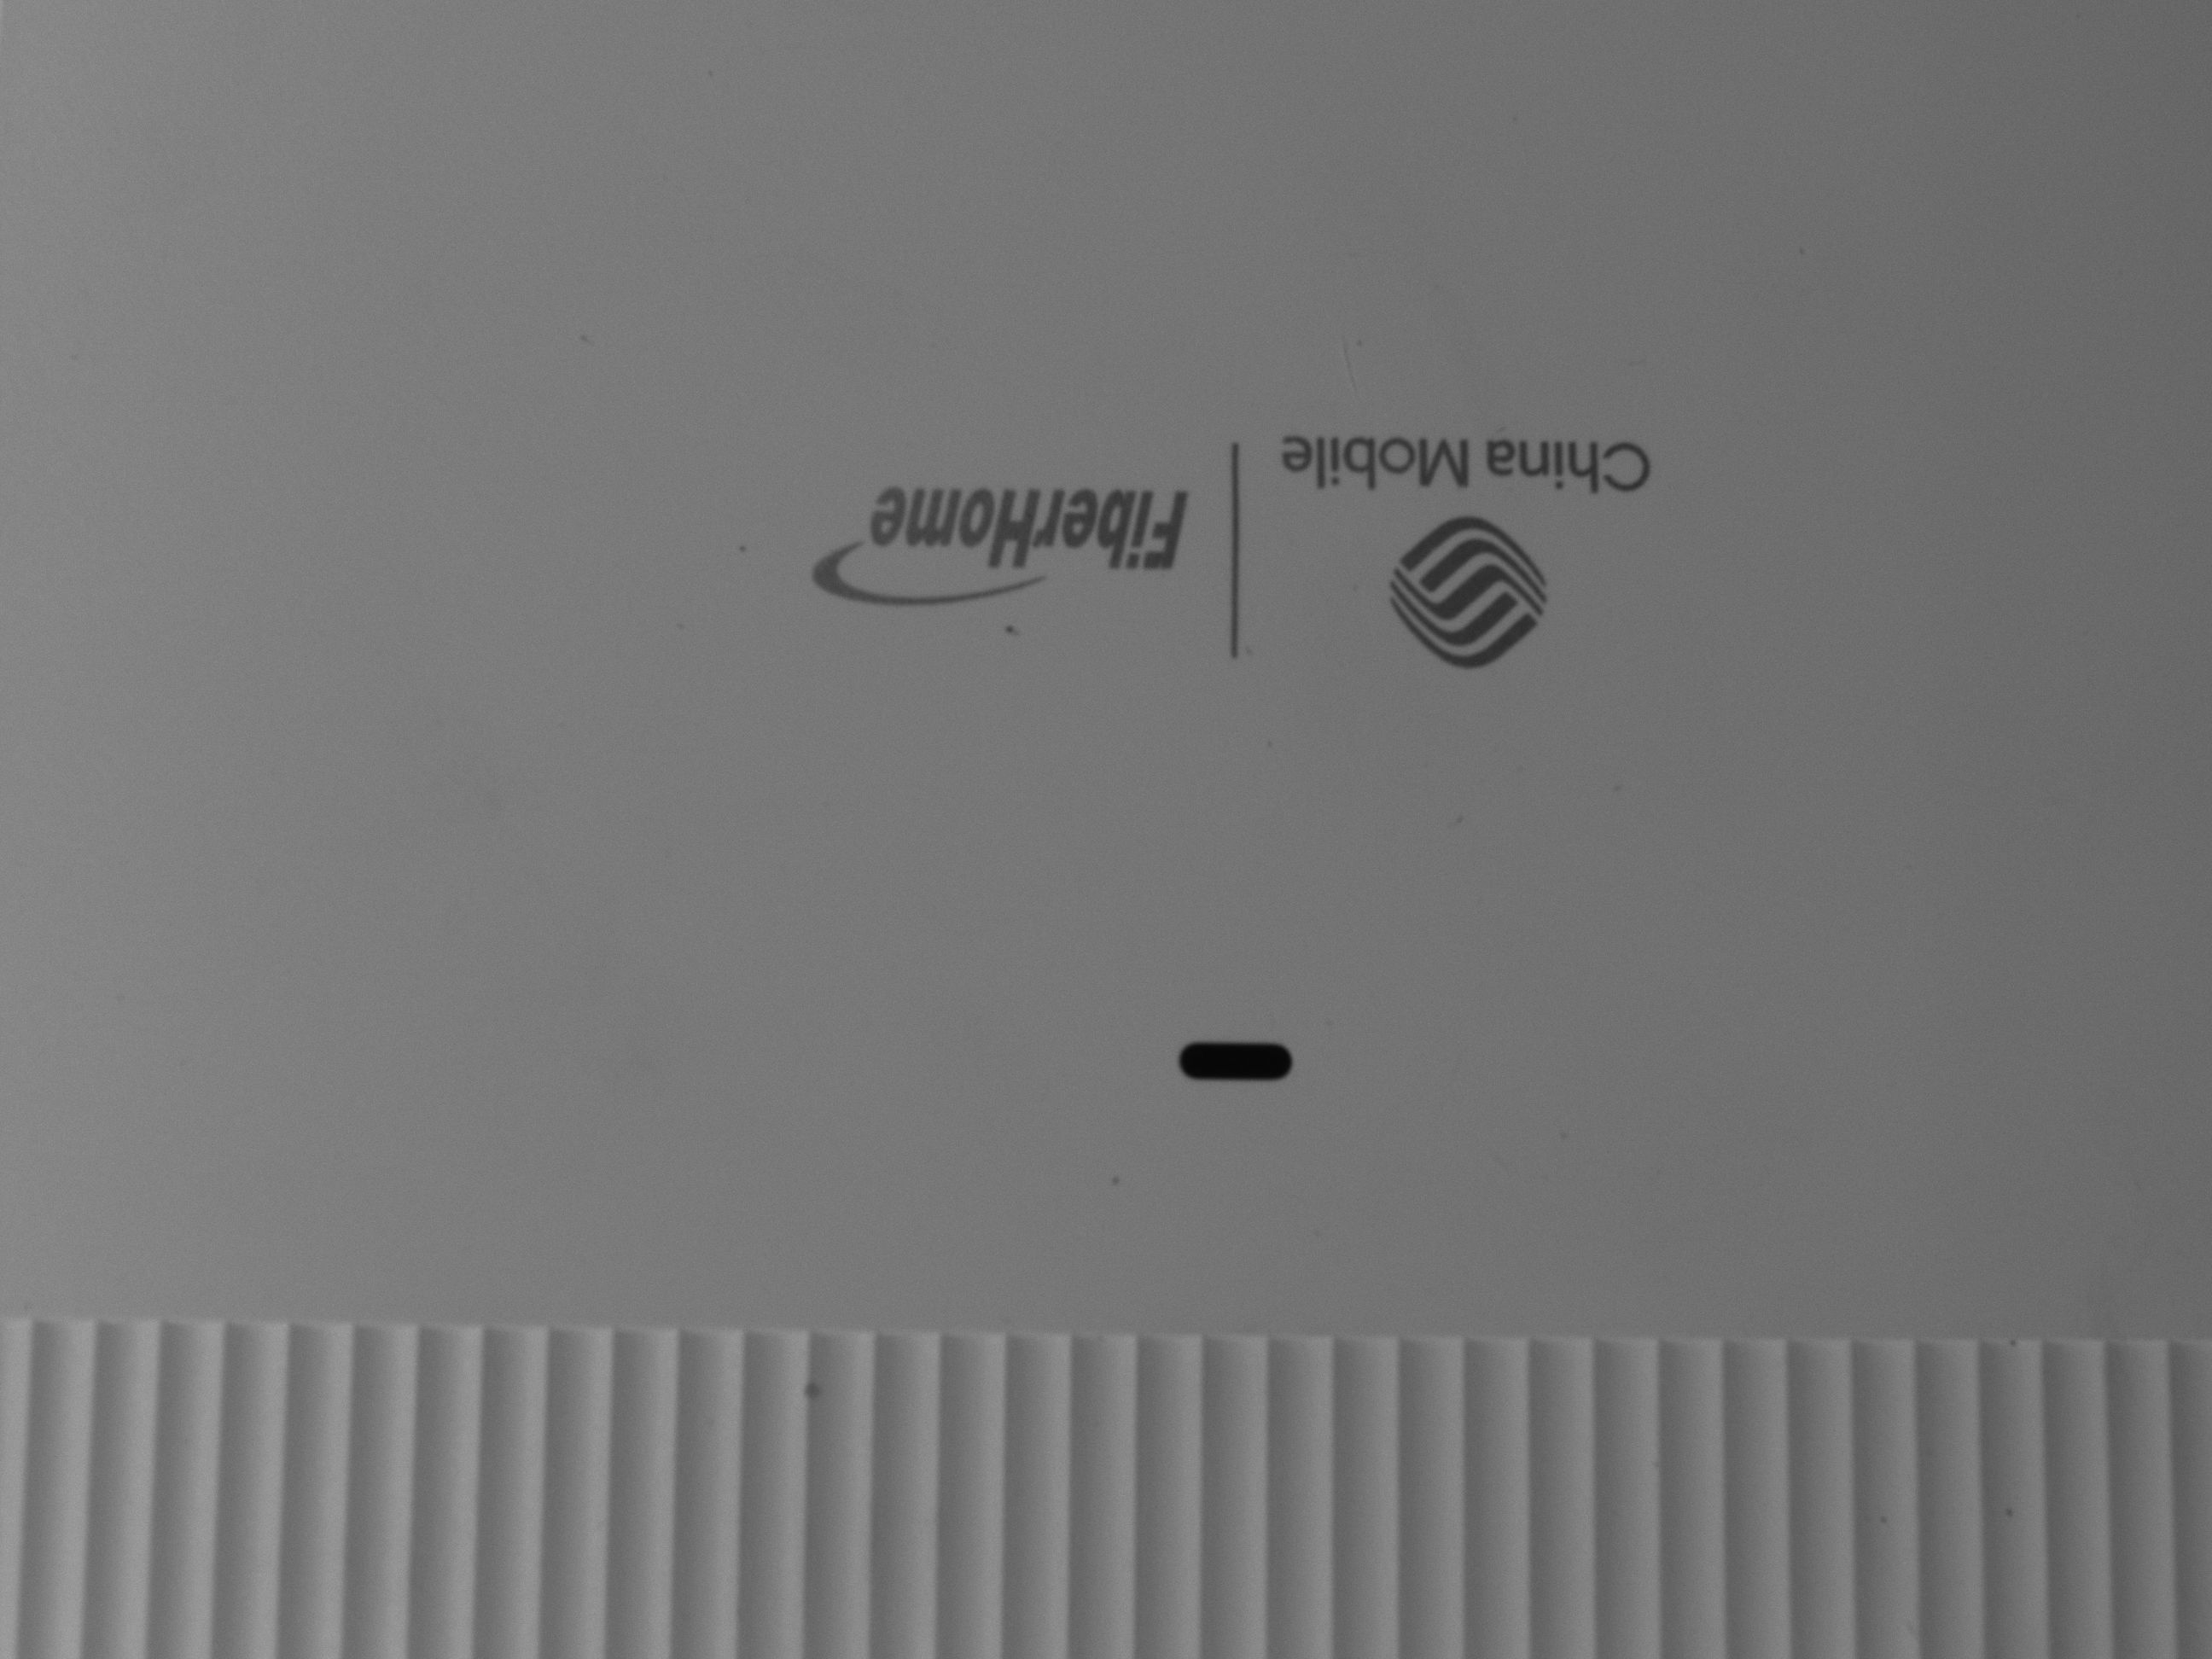BX_HG6371FMobileFiberhome: (777, 359, 1684, 676)
